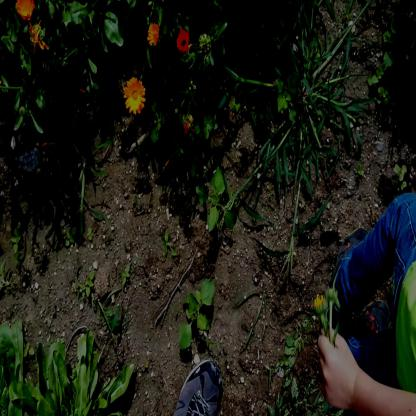marigold: (124, 77, 146, 112), (16, 0, 34, 19), (147, 23, 160, 48)
